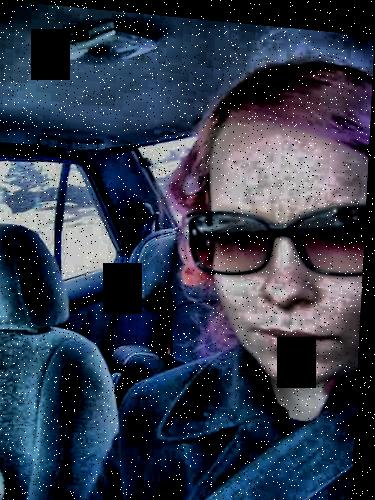seatbelt: (199, 383, 350, 500)
